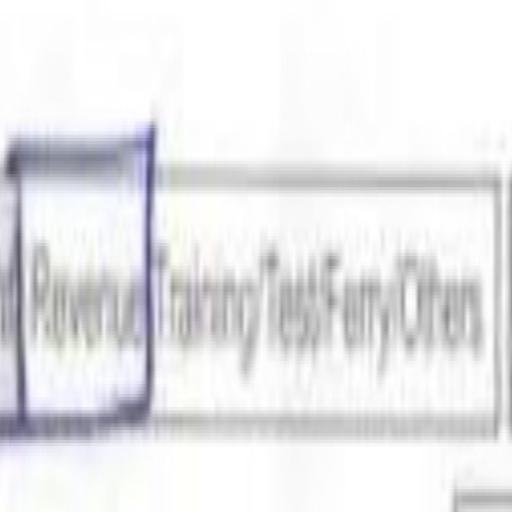check: (5, 72, 152, 477)
